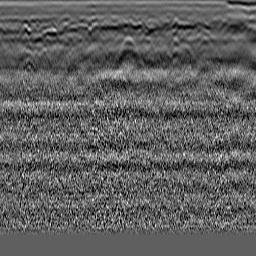cavity: (115, 34, 139, 61)
